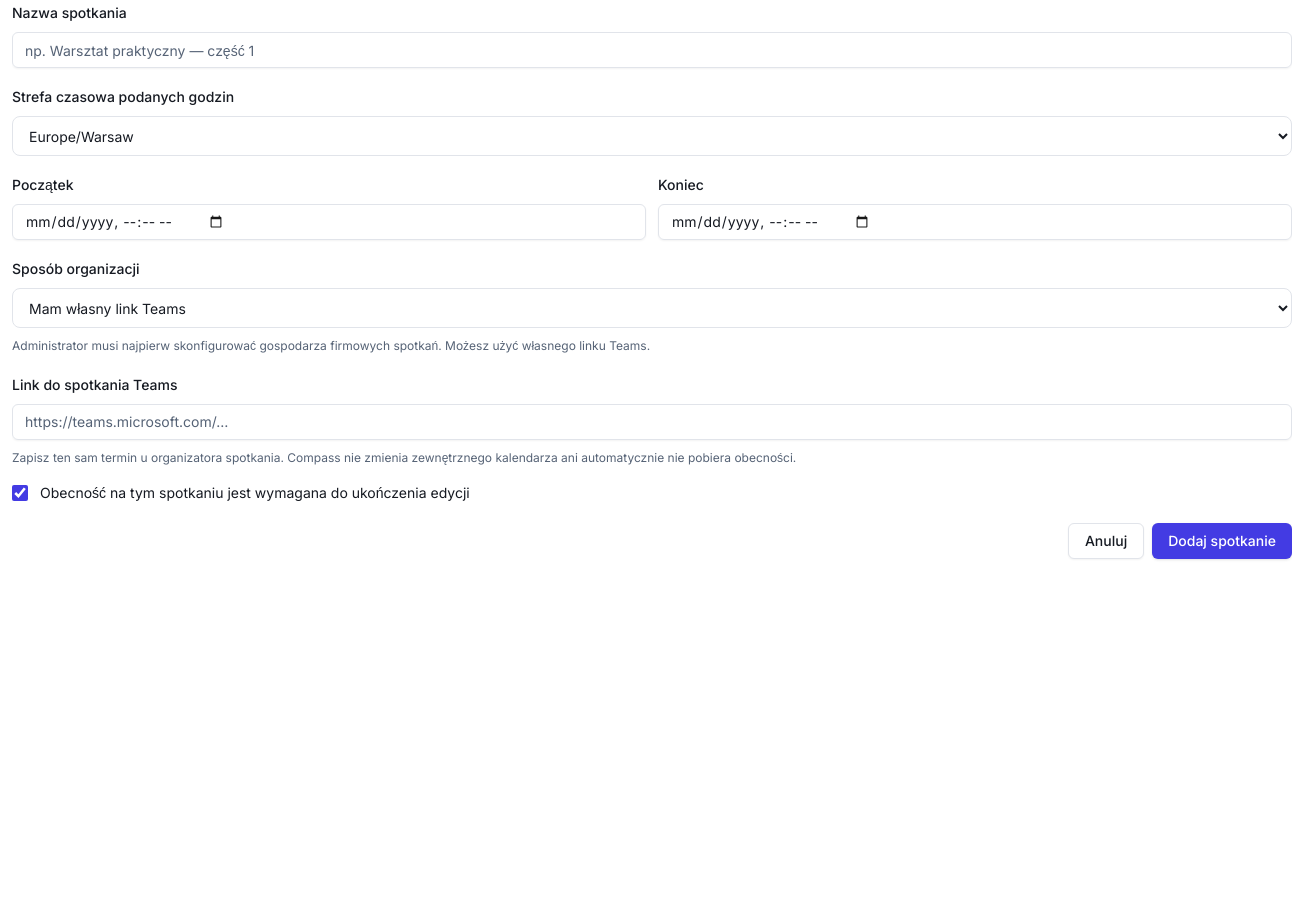
saves an external meeting in the selected zone and retains fields on an action failure
This screenshot has width=1304, height=900.
Type "Warsztat Teams" into the field labelled "Nazwa spotkania".
click(652, 50); type("Warsztat Teams")  # box [12,32,1292,68]
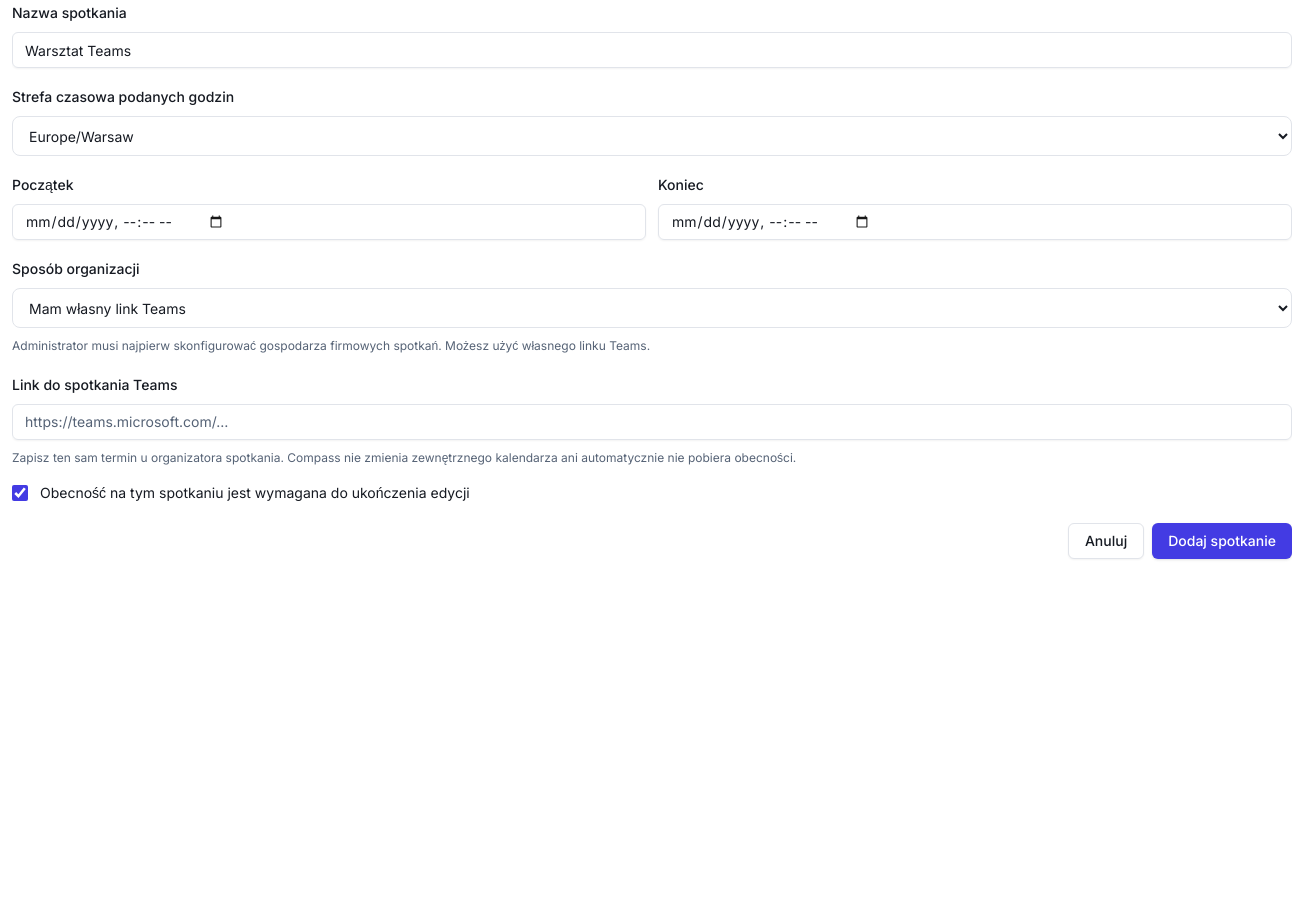
Type "2026-12-14T10:00" into the field labelled "Początek".
click(329, 222); type("2026-12-14T10:00")  # box [12,204,646,240]
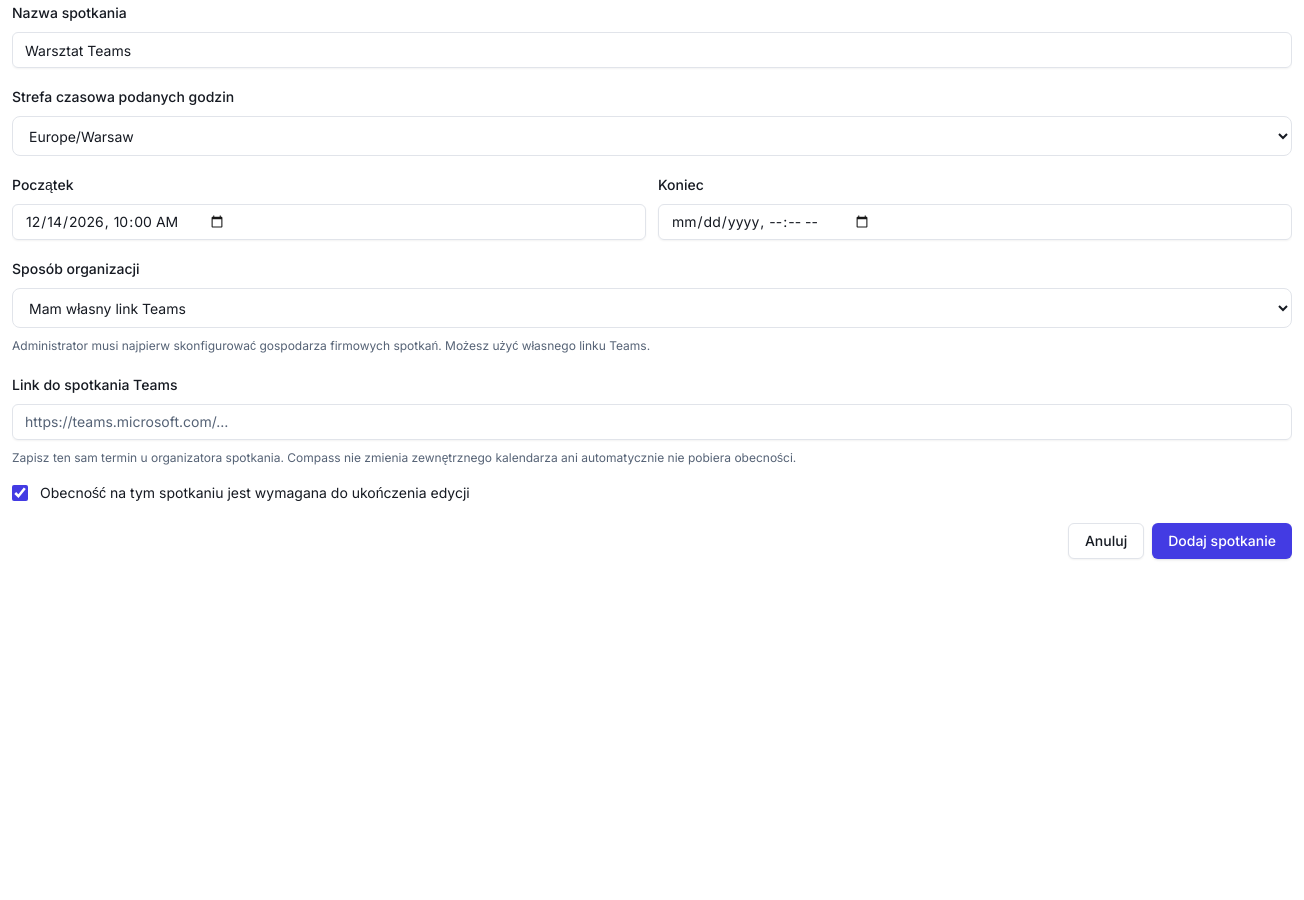
Type "2026-12-14T11:00" into the field labelled "Koniec".
click(975, 222); type("2026-12-14T11:00")  # box [658,204,1292,240]
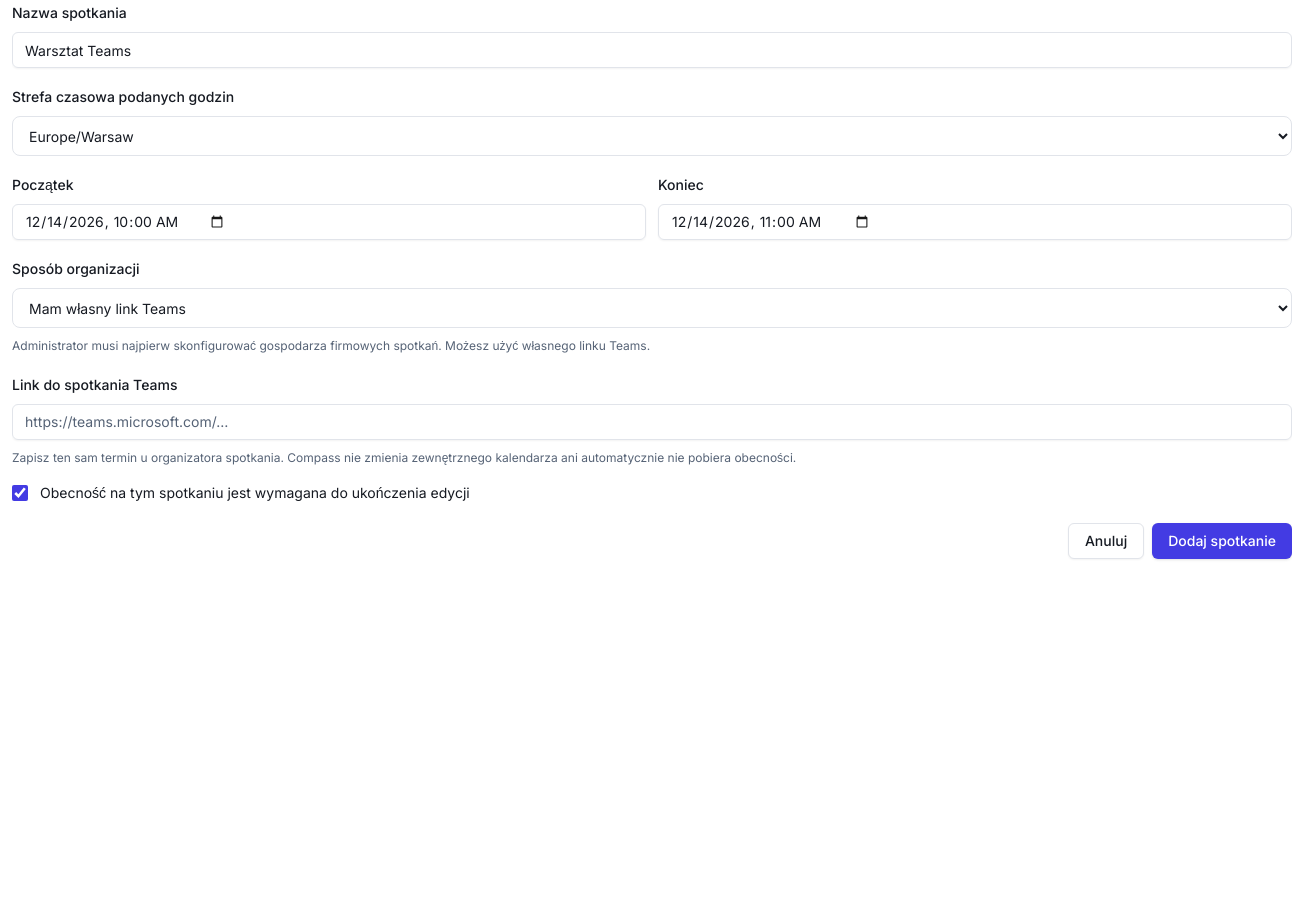
Type "https://teams.microsoft.com/l/meetup-join/test" into the field labelled "Link do spotkania Teams".
click(652, 422); type("https://teams.microsoft.com/l/meetup-join/test")  # box [12,404,1292,440]
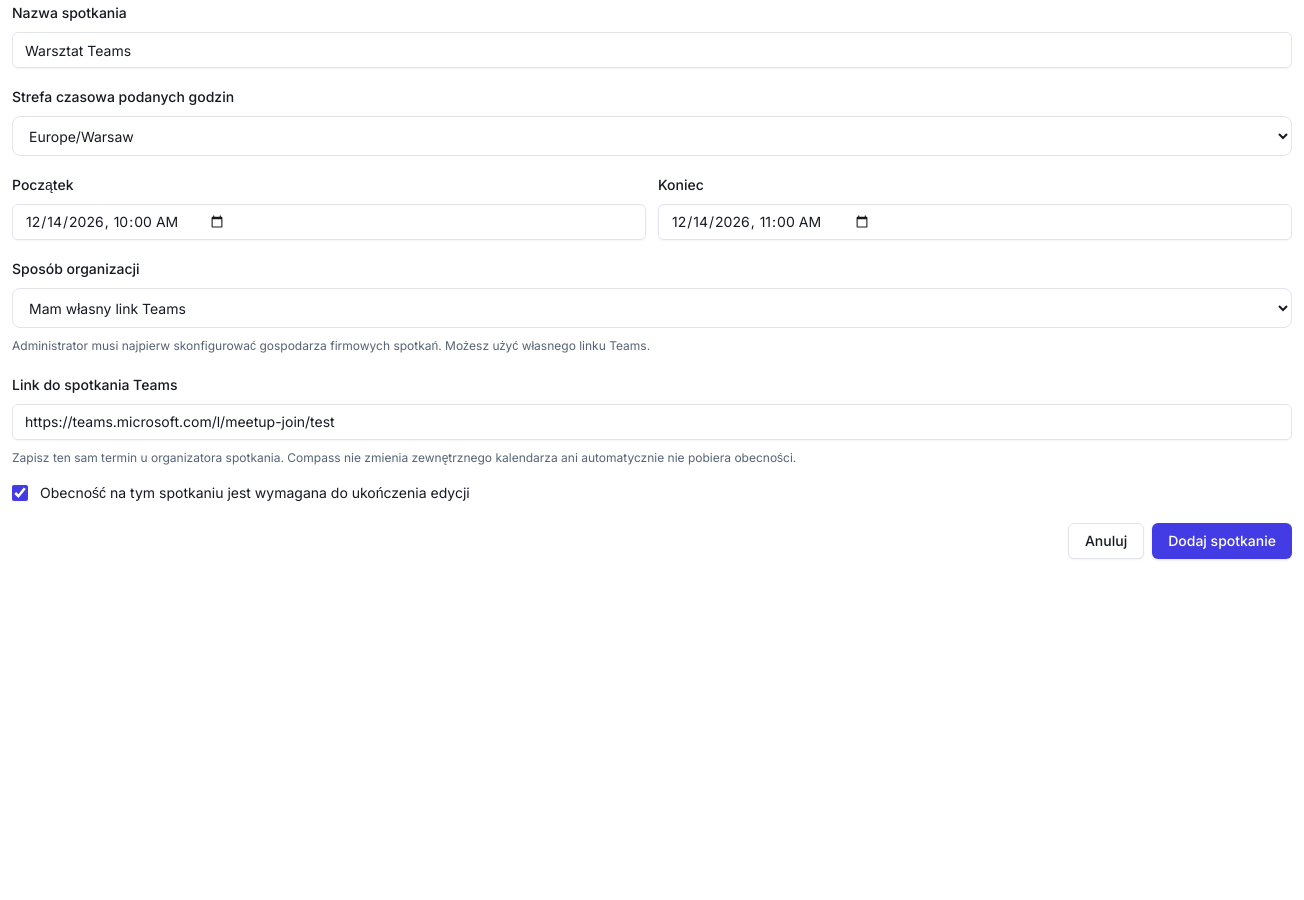
Click the button "Dodaj spotkanie".
click(1222, 541)  # box [1152,523,1292,559]
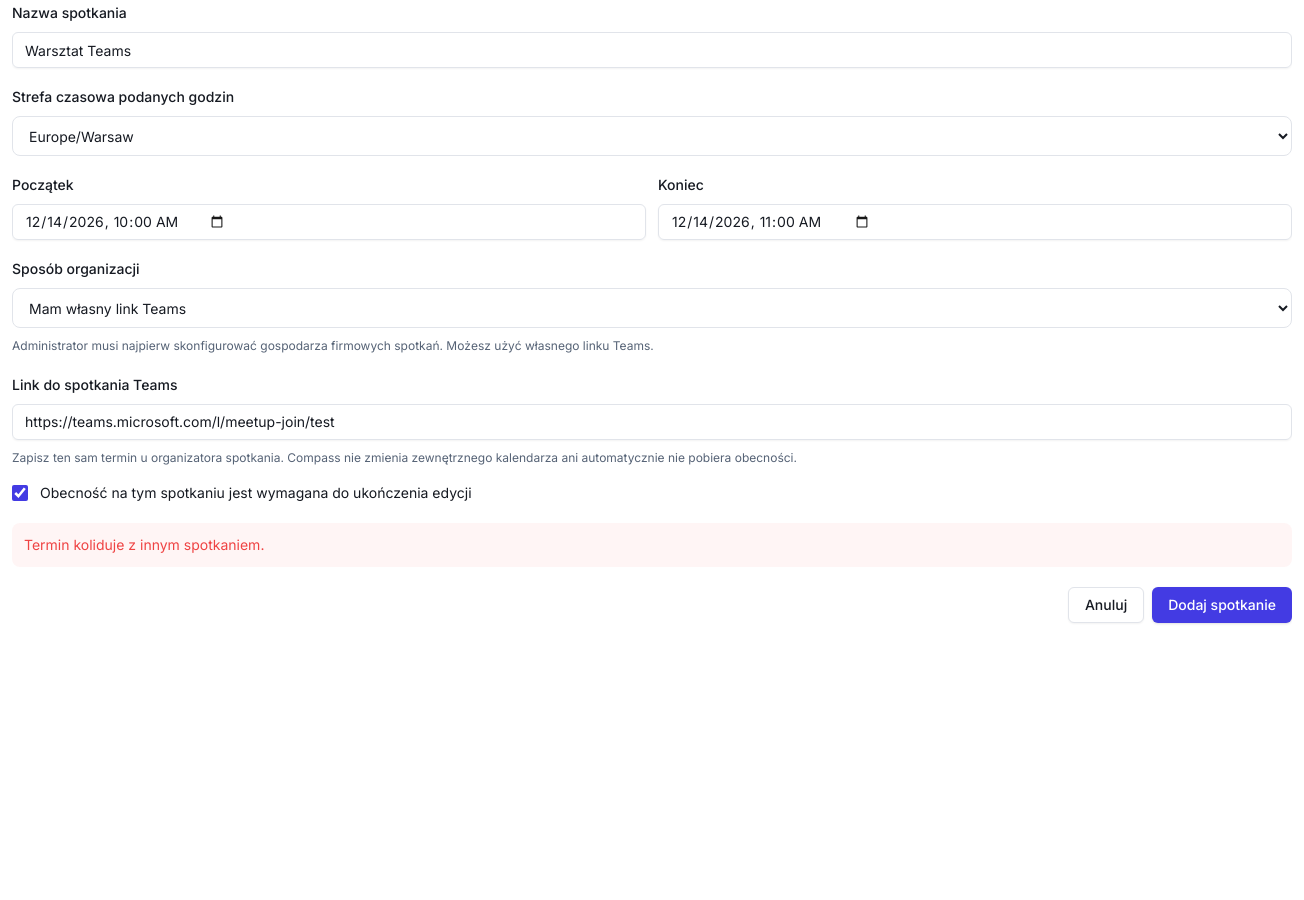
Check: the button "Dodaj spotkanie" is enabled, box [1152,587,1292,623]
Check: the message "Termin koliduje z innym spotkaniem." is shown, box [12,523,1292,567]
